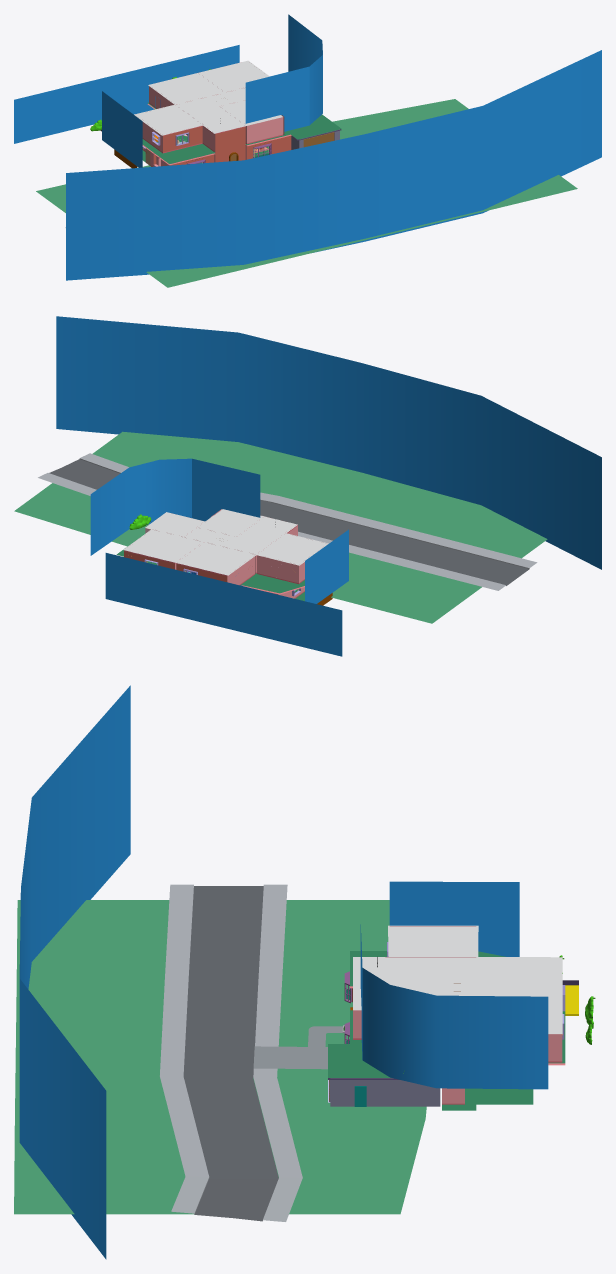
Rendered from simpsons-family-house-full-interior.glb.
3 renders of one model, top to bottom at view 1: azimuth 30°, elevation 25°; view 2: azimuth 150°, elevation 25°; view 3: azimuth 270°, elevation 25°, orthographic. The views are drawn at different scales.
Visible parts, largest first — view 1: Interior; view 2: Interior; view 3: Interior.
Part boxes in pixels (x1,y1,x2,y2): Interior: [14, 14, 601, 287]; Interior: [14, 316, 601, 656]; Interior: [14, 685, 595, 1259].
Bounding box in the file's own units: 131 × 25.44 × 80.16.
39 materials, 39 textured.
